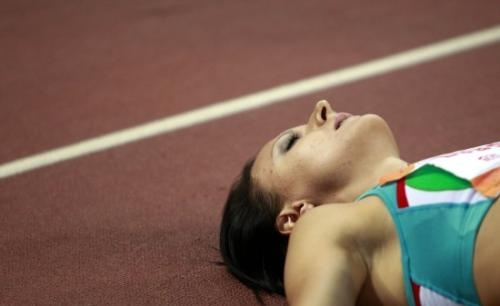falling: (216, 35, 490, 300)
